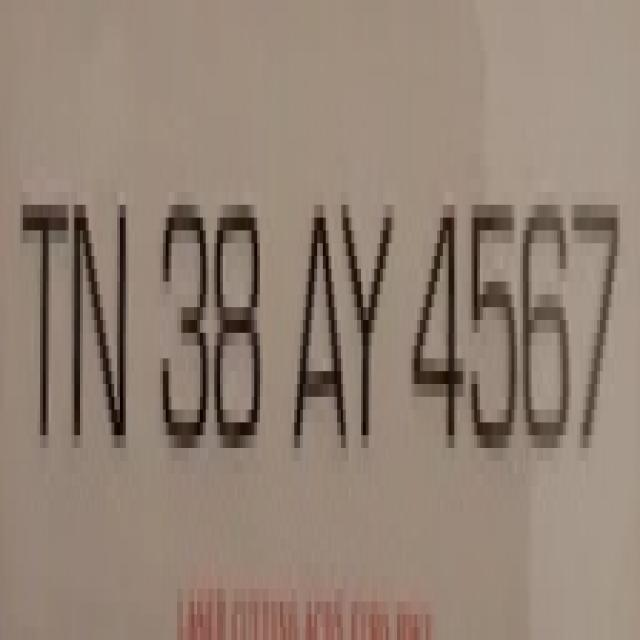3: (156, 137, 210, 463)
4: (410, 157, 465, 452)
5: (466, 175, 520, 468)
6: (520, 180, 571, 476)
7: (568, 160, 624, 488)
8: (212, 171, 273, 465)
A: (287, 163, 349, 456)
N: (70, 157, 131, 463)
T: (17, 160, 71, 458)
Y: (340, 166, 397, 458)
